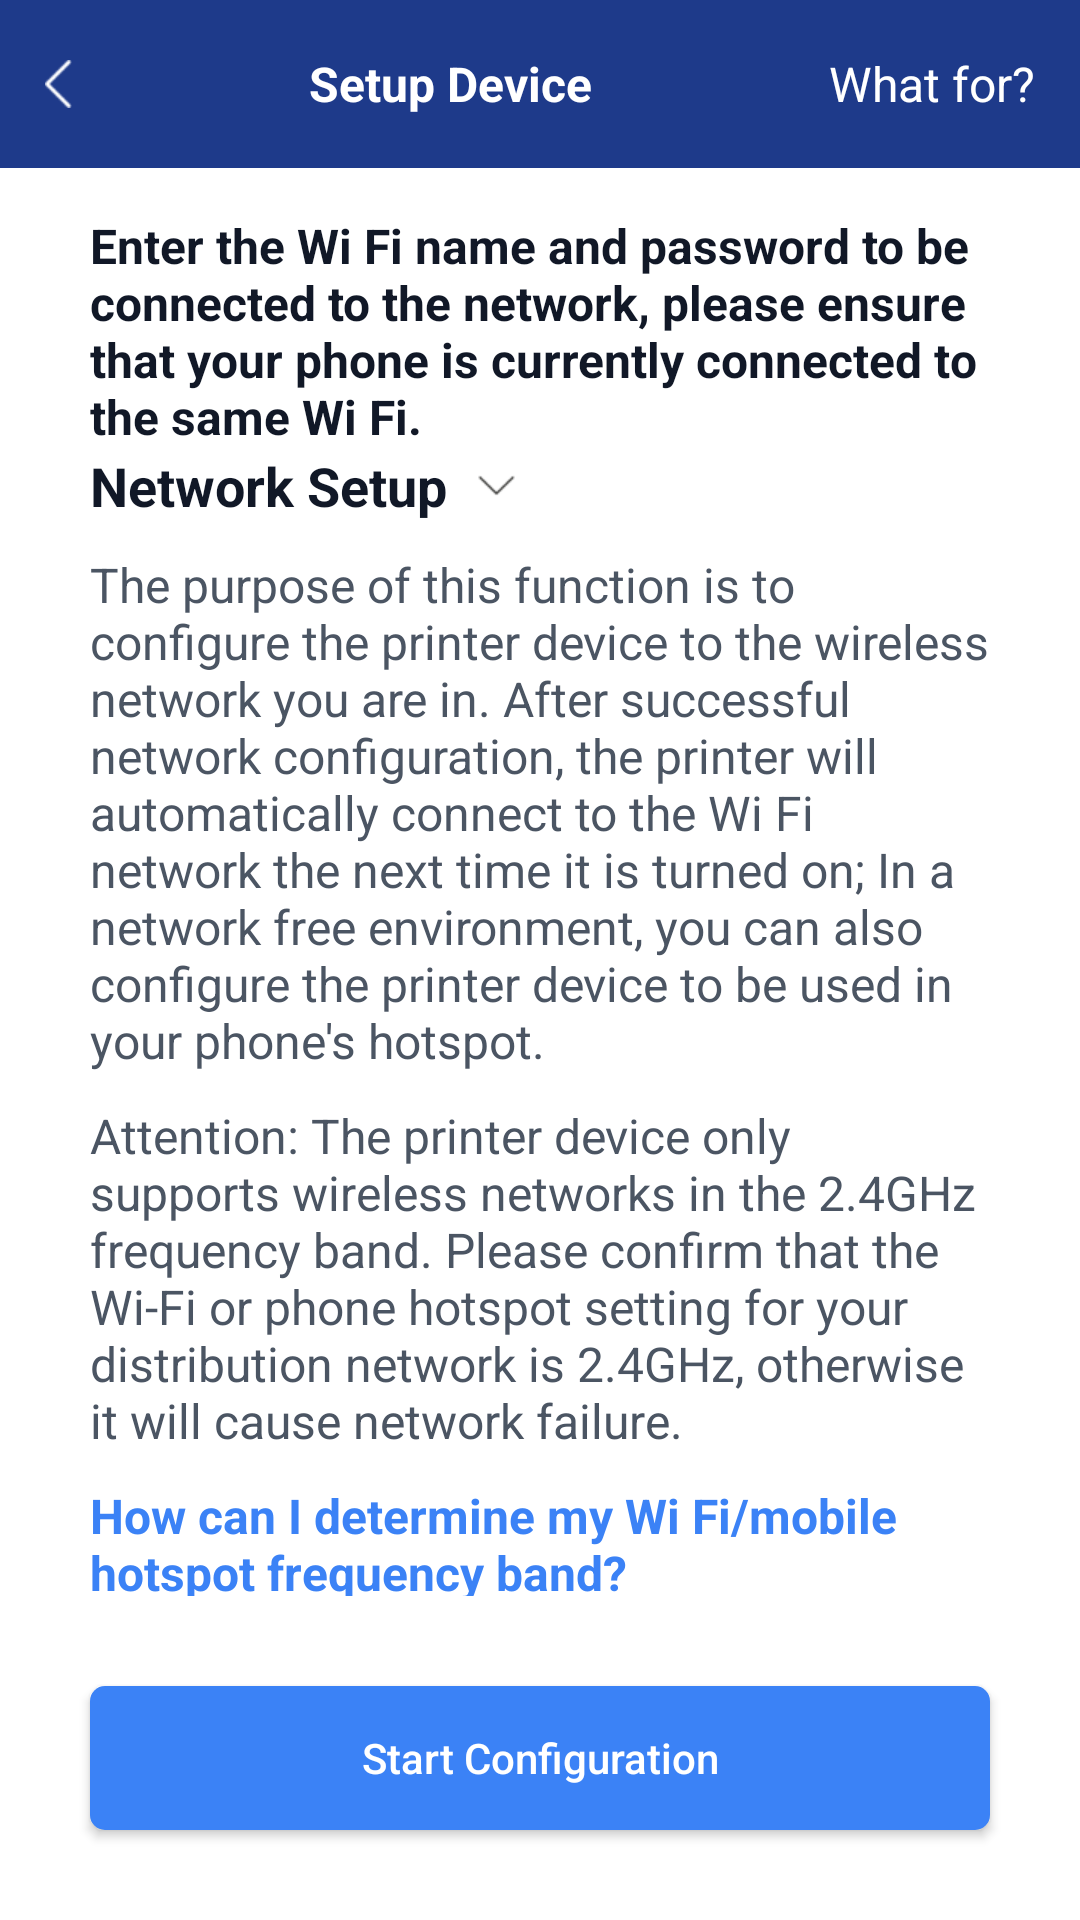

Named icons in this screenshot (1080w x 1920h) and their bounding boxes, region(x1, y1, x2, y2):
back: region(45, 60, 72, 108)
